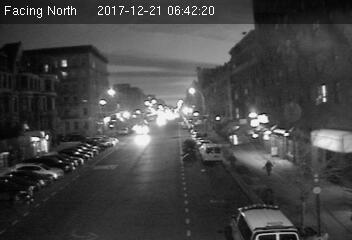police: (229, 202, 304, 240)
truck: (201, 143, 223, 164)
